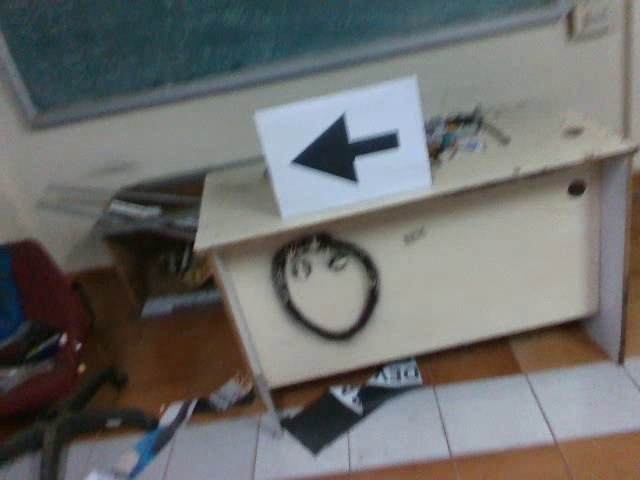Left: (287, 110, 401, 190)
